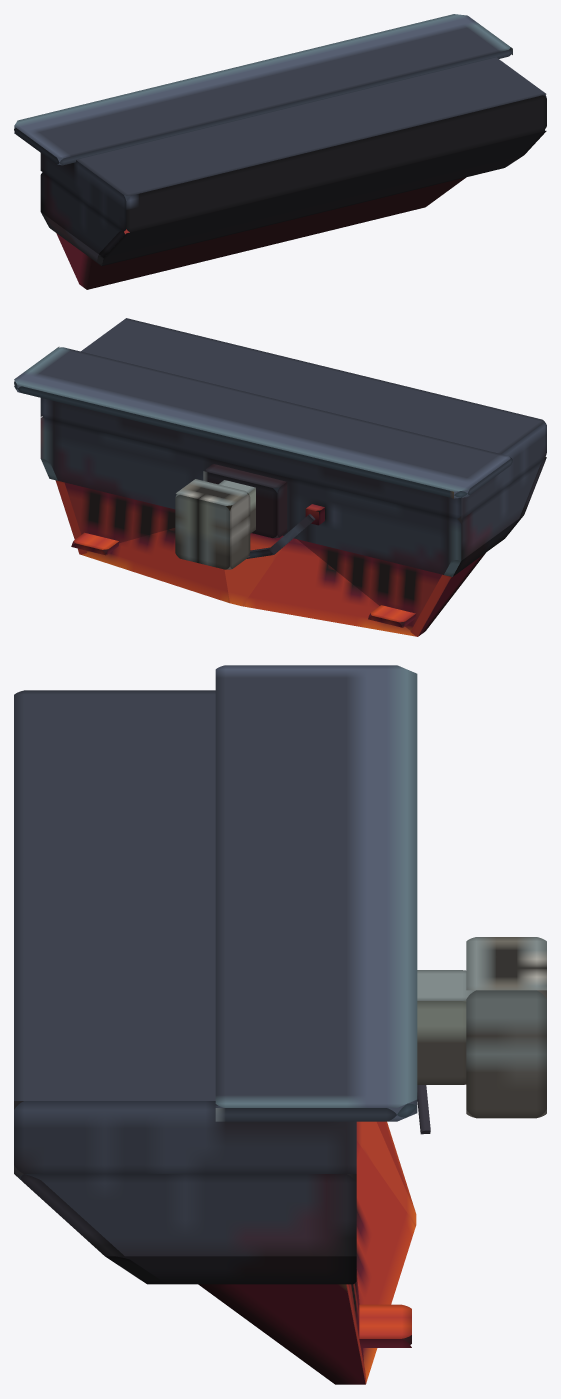
File: jy290_cowcatcher.obj
The picture shows the model from 3 angles, top to bottom: view 1: azimuth 30°, elevation 25°; view 2: azimuth 150°, elevation 25°; view 3: azimuth 270°, elevation 25°; orthographic projection. The views are drawn at different scales.
Parts seen in each view (by area): view 1: cuboid_selection_selection_selection_selection_selection_selecti; view 2: cuboid_selection_selection_selection_selection_selection_selecti; view 3: cuboid_selection_selection_selection_selection_selection_selecti.
Boxes of the visible parts, x1=… form: cuboid_selection_selection_selection_selection_selection_selecti: x1=14, y1=14, x2=546, y2=289; cuboid_selection_selection_selection_selection_selection_selecti: x1=14, y1=318, x2=546, y2=636; cuboid_selection_selection_selection_selection_selection_selecti: x1=14, y1=665, x2=546, y2=1384.
Size of the model in its own units: 3.25 by 1.14 by 1.65.
